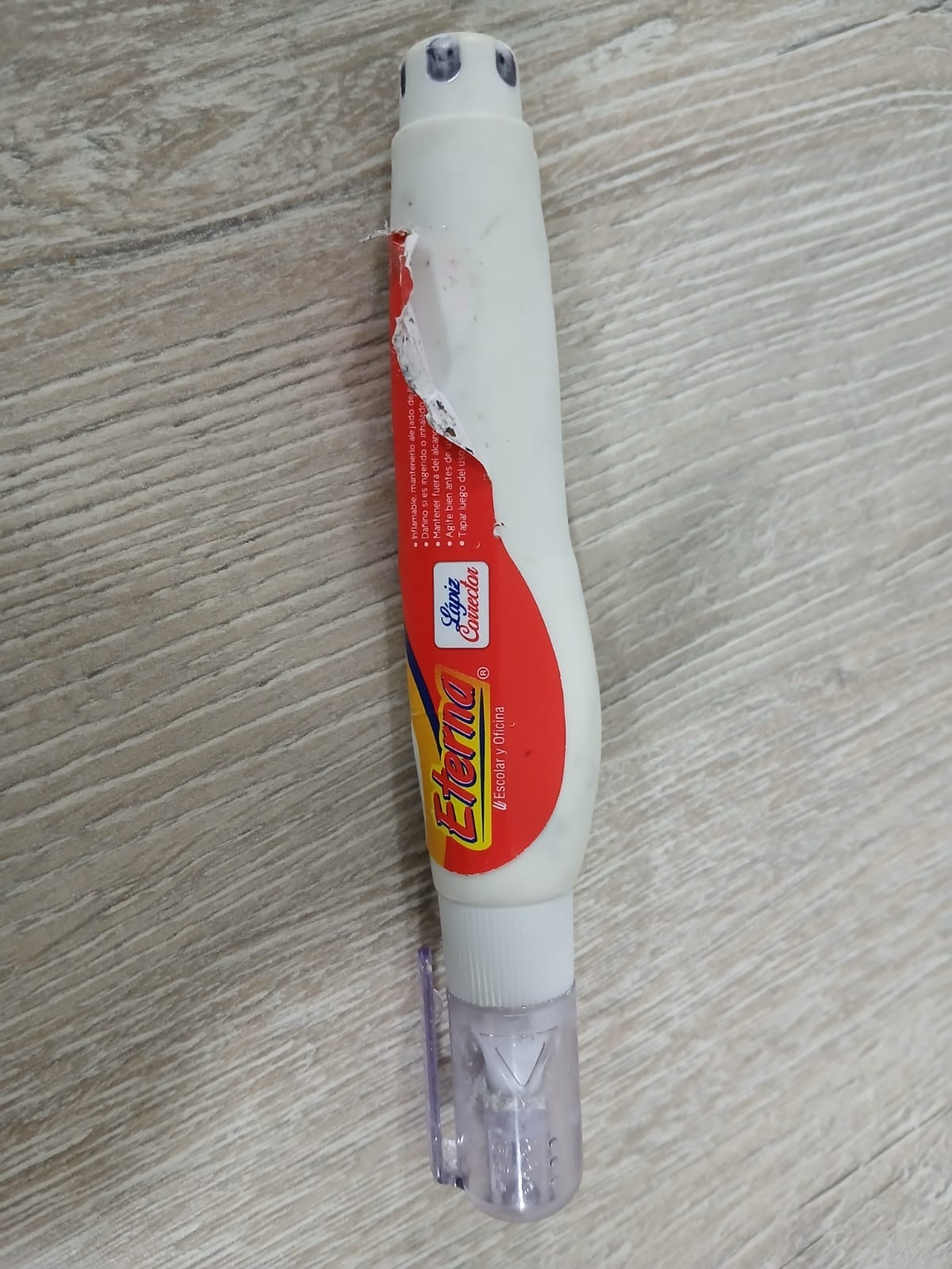Ordinario: (388, 32, 600, 1221)
